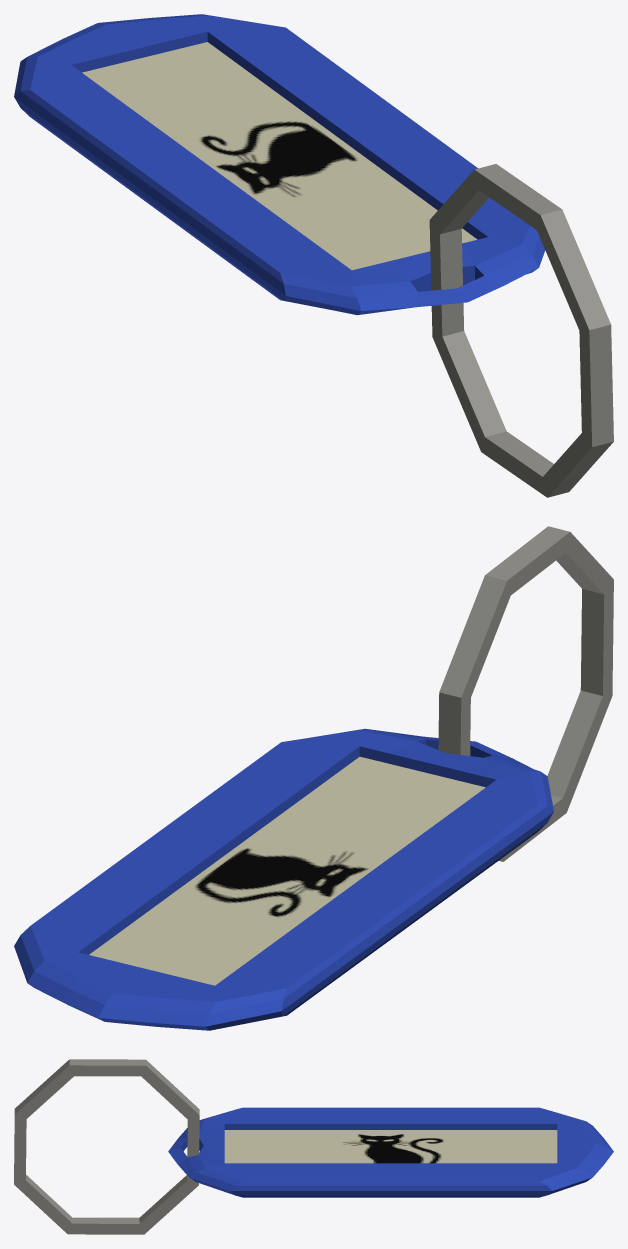
The model's file is llavero.fbx.
The picture shows the model from 3 angles, top to bottom: view 1: azimuth 30°, elevation 25°; view 2: azimuth 150°, elevation 25°; view 3: azimuth 270°, elevation 25°; orthographic projection. The views are drawn at different scales.
Parts seen in each view (by area): view 1: llavero; view 2: llavero; view 3: llavero.
Part boxes in pixels (<box>): llavero: <box>14,14,613,497</box>; llavero: <box>14,526,613,1030</box>; llavero: <box>14,1059,613,1234</box>.
Size of the model in its own units: 2.53 by 2.58 by 8.34.
